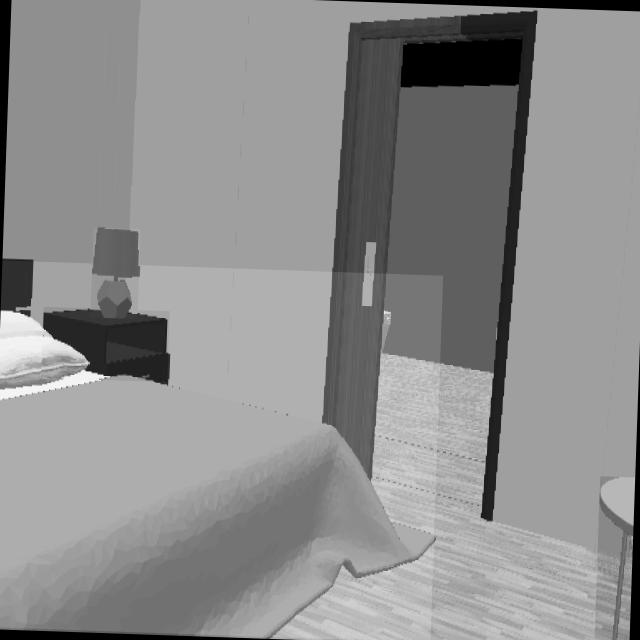bed: (0, 260, 433, 636)
lamp: (93, 227, 139, 318)
nighttable: (43, 308, 168, 382)
table: (599, 477, 634, 640)
